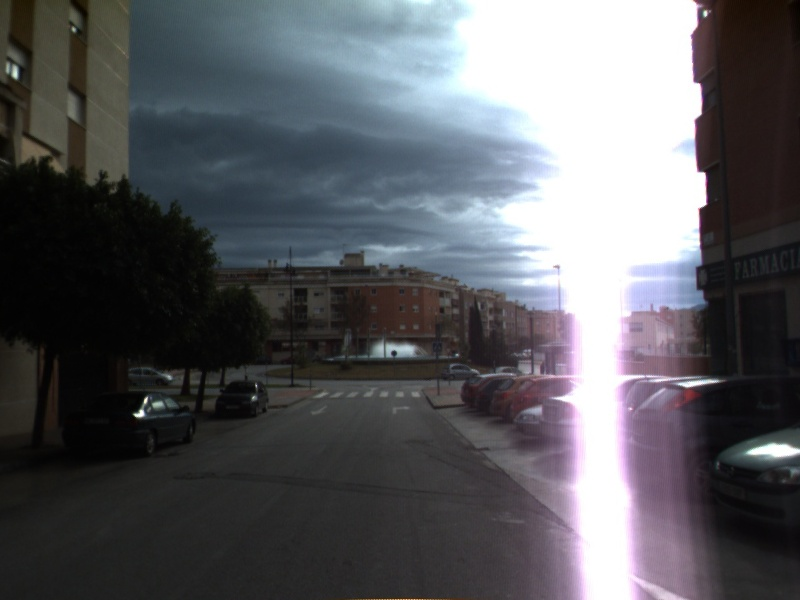RIGHT: (390, 403, 413, 416)
